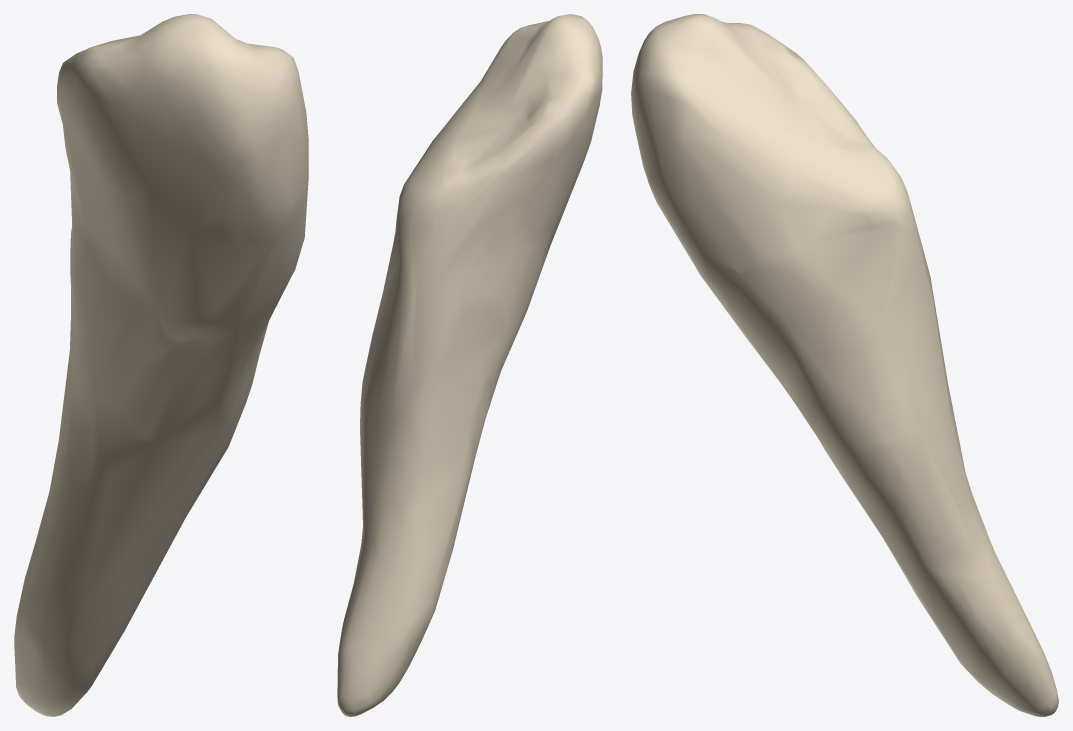
File: lower-canine-r.glb
3 views of the same model, side by side, from view 1: azimuth 30°, elevation 25°; view 2: azimuth 150°, elevation 25°; view 3: azimuth 270°, elevation 25° (orthographic). The views are drawn at different scales.
Parts seen in each view (by area): view 1: Lower canine.r; view 2: Lower canine.r; view 3: Lower canine.r.
Part boxes in pixels (x1,y1,x2,y2): Lower canine.r: (14, 14, 308, 716); Lower canine.r: (337, 14, 602, 716); Lower canine.r: (631, 14, 1058, 716).
Size of the model in its own units: 0.0077 by 0.0262 by 0.0152.
